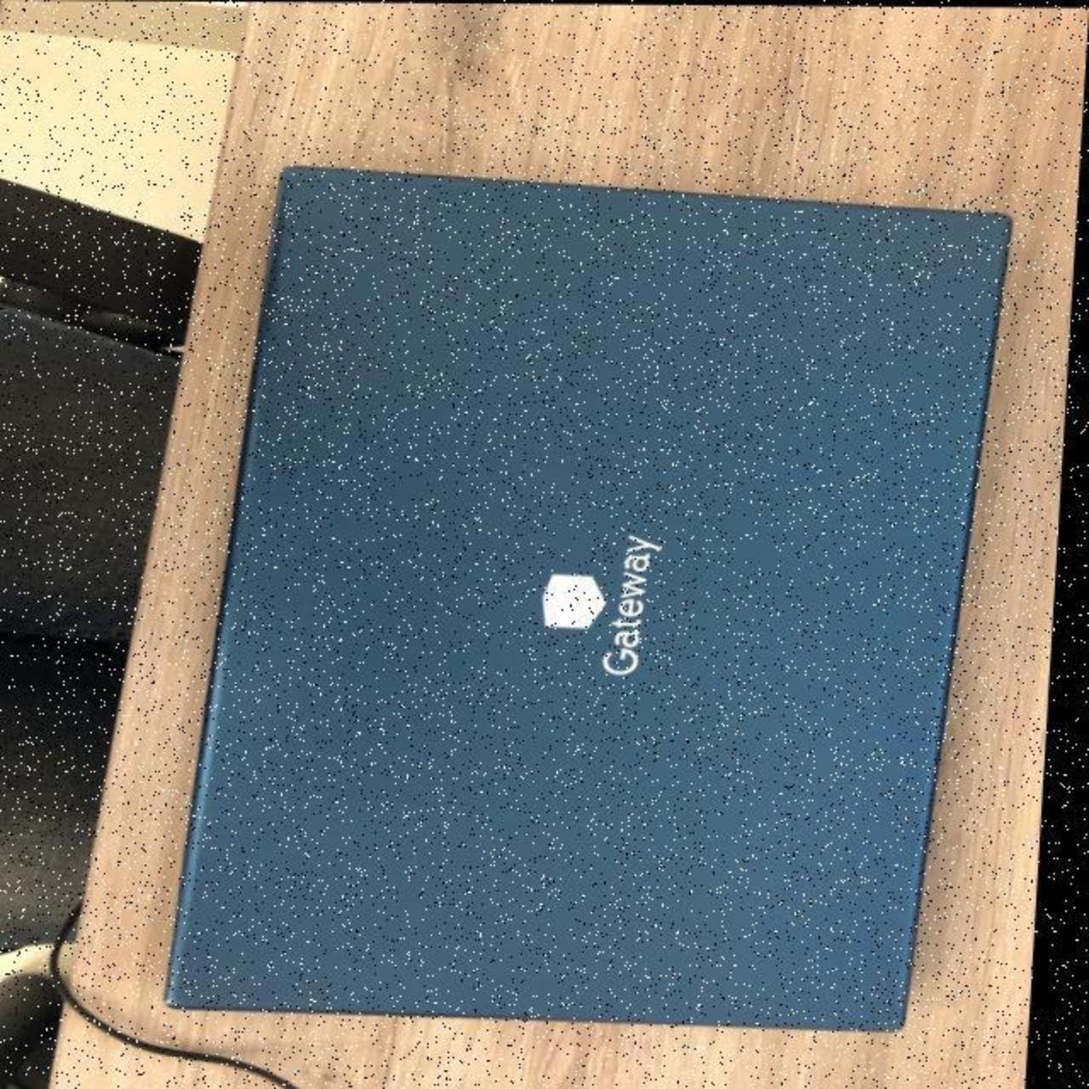laptop: (171, 158, 1020, 1033)
